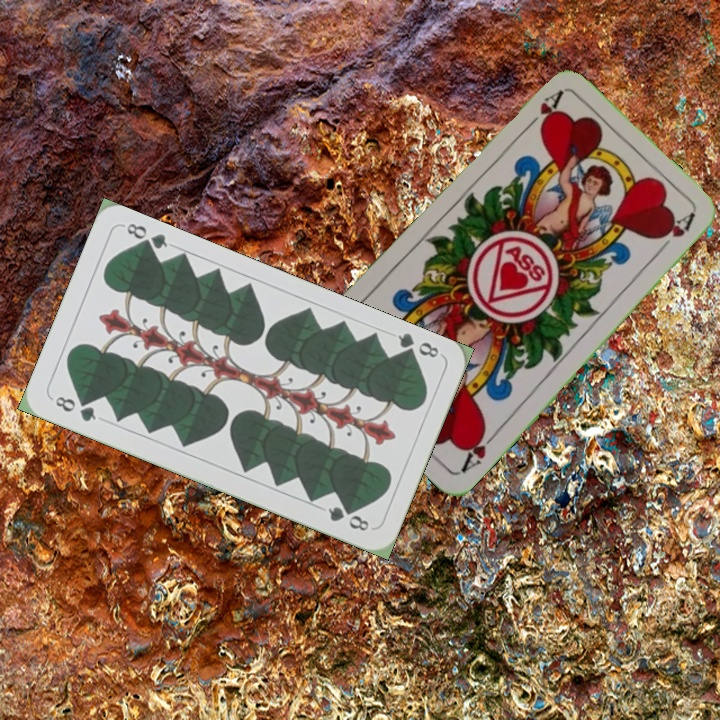G8: (393, 328, 442, 362), (51, 392, 99, 424)
HA: (456, 424, 501, 476), (519, 87, 565, 135)
